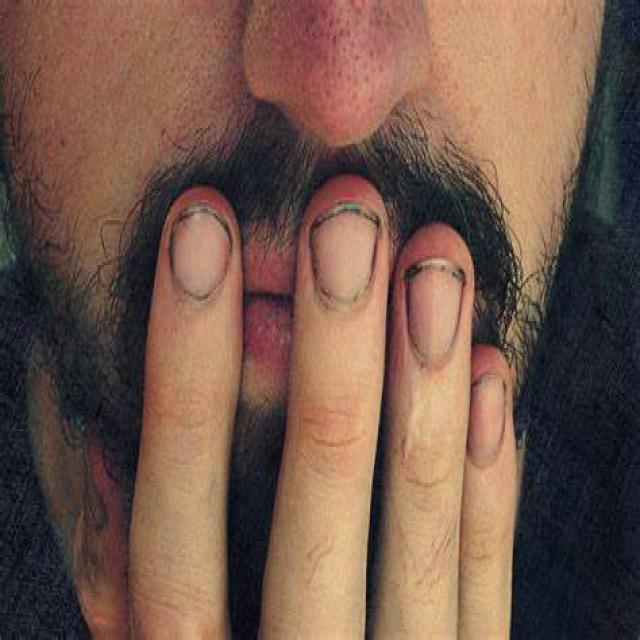Fingernail: (311, 204, 377, 305), (406, 262, 464, 369), (171, 207, 231, 298), (468, 375, 505, 465)
